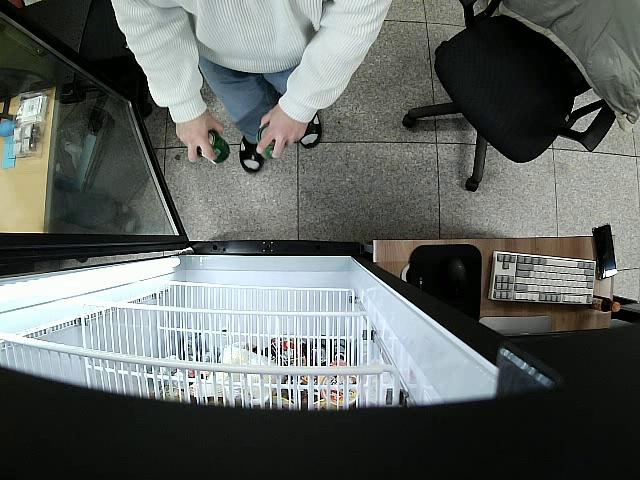00_hand: (257, 103, 306, 159), (176, 115, 223, 165)
12_chilsungCider: (199, 131, 233, 167), (257, 129, 281, 162)
